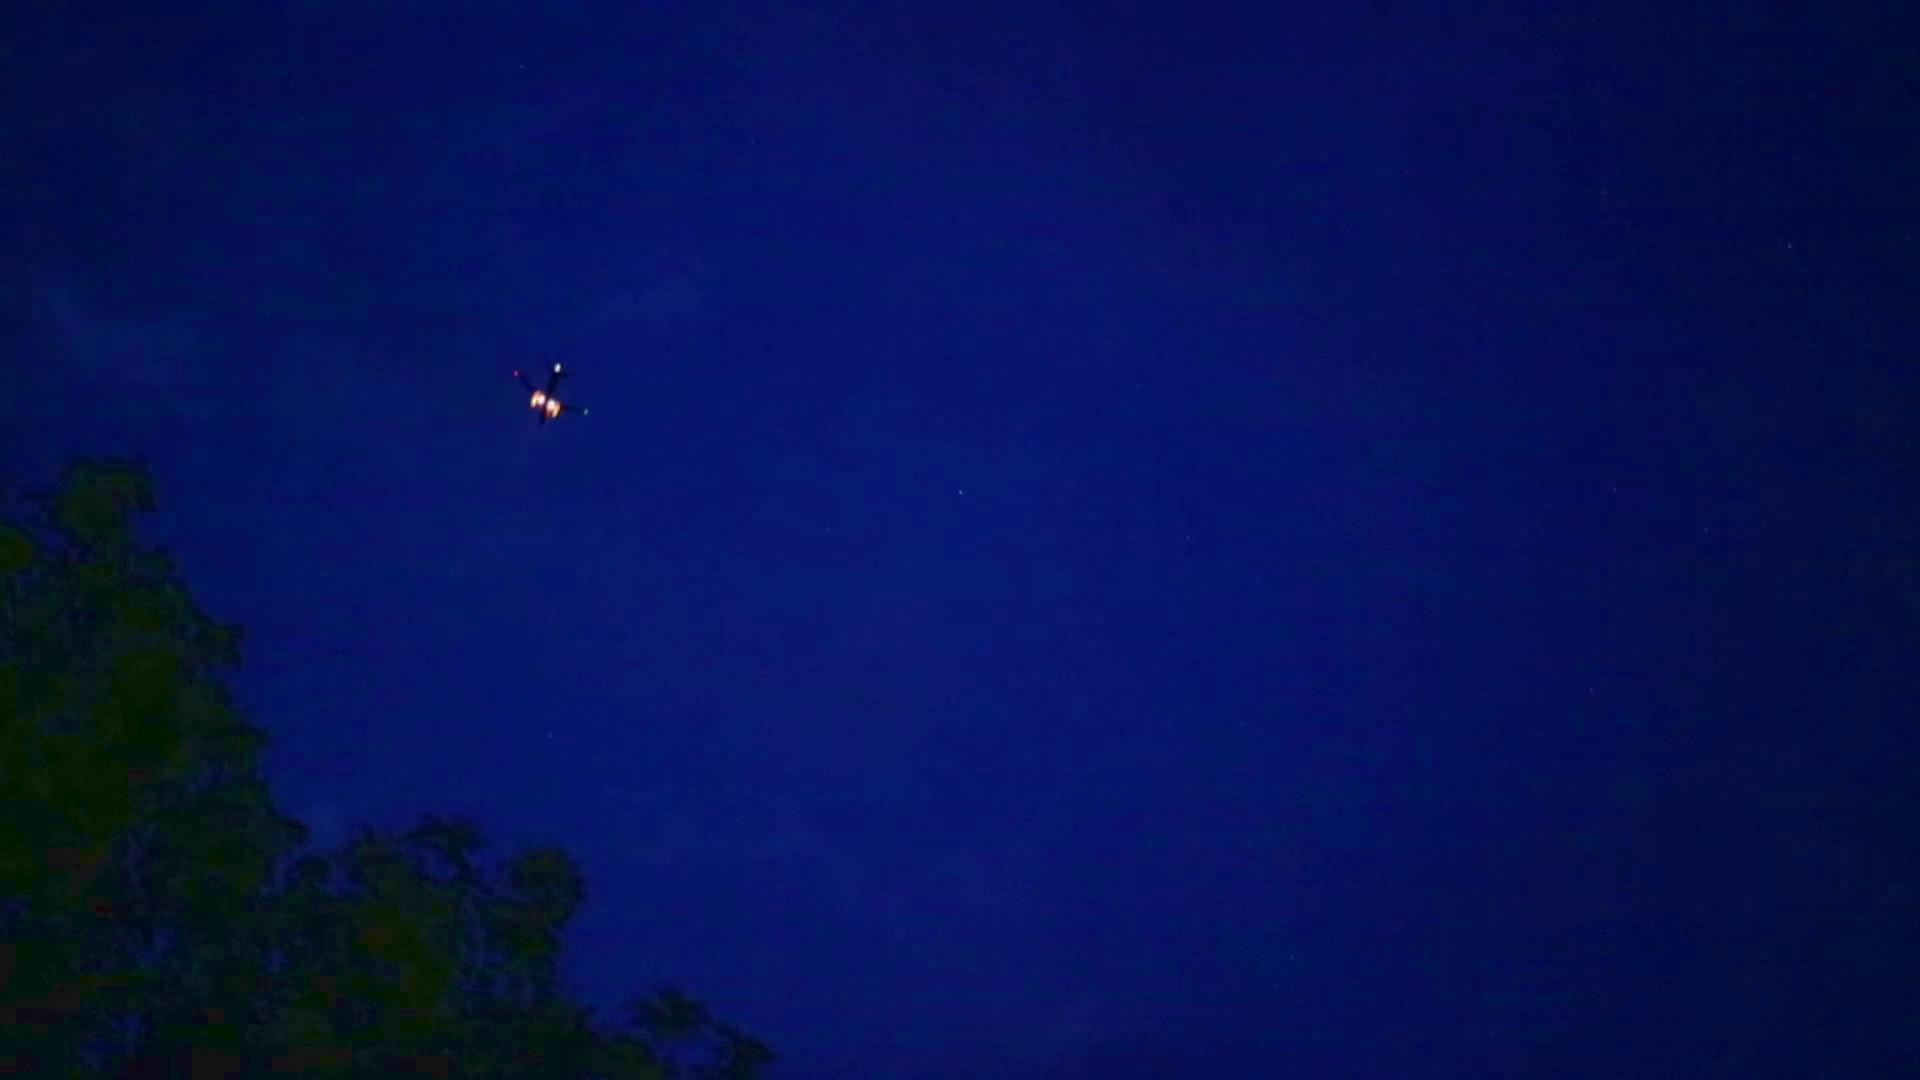Plane: (497, 345, 599, 442)
